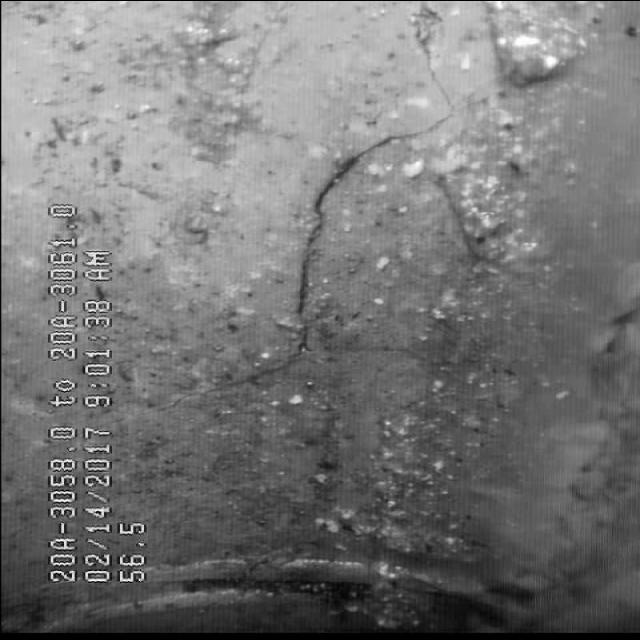Crack: (212, 132, 444, 380)
